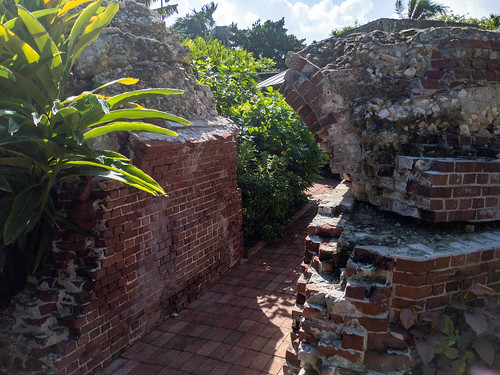sky: (194, 1, 500, 25)
vegetation: (6, 1, 143, 278), (190, 36, 330, 231)
